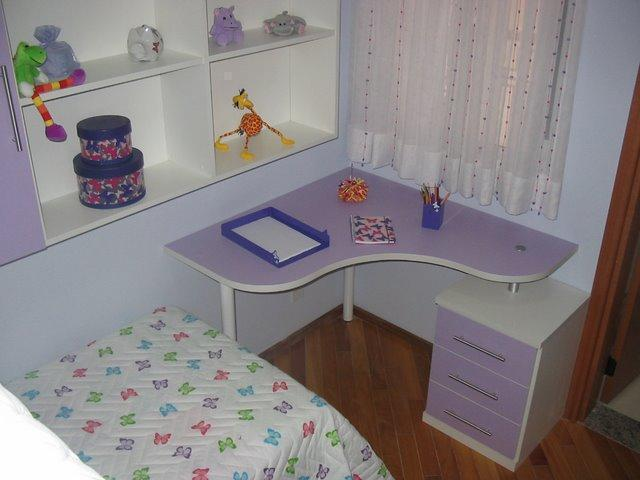Cama: (11, 334, 372, 474)
Ventana: (358, 2, 551, 162)
